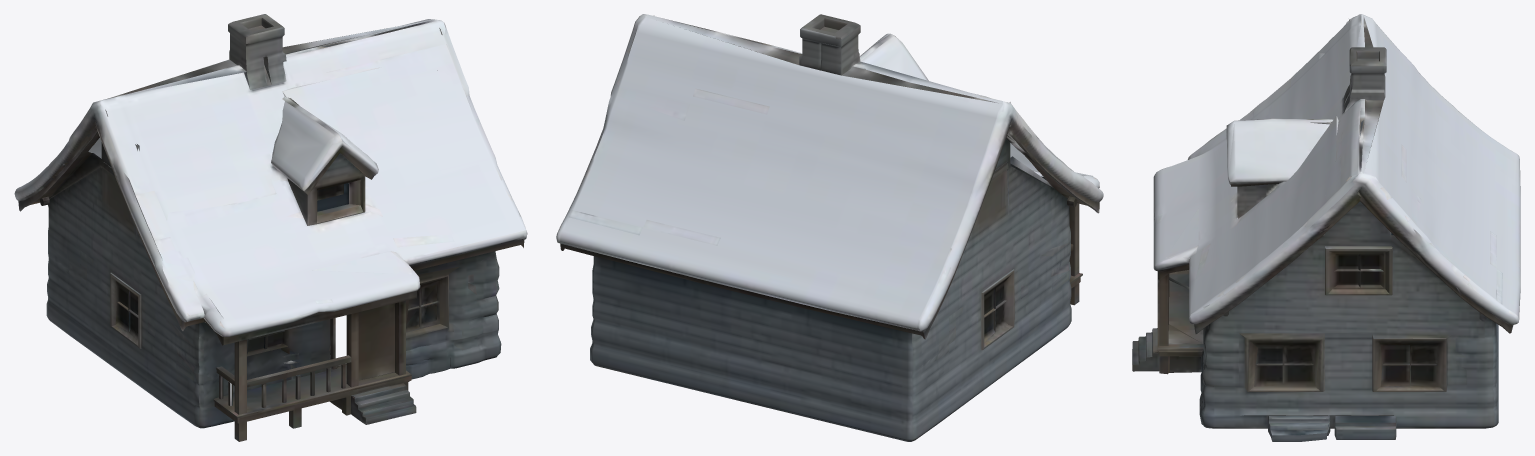
Rendered from ski-lodge.glb.
3 renders of one model, left to right at view 1: azimuth 30°, elevation 25°; view 2: azimuth 150°, elevation 25°; view 3: azimuth 270°, elevation 25°, orthographic. The views are drawn at different scales.
Visible parts, largest first — view 1: ski-lodge; view 2: ski-lodge; view 3: ski-lodge.
Part boxes in pixels (<box>): ski-lodge: <box>14,14,527,441</box>; ski-lodge: <box>556,14,1103,441</box>; ski-lodge: <box>1132,14,1520,441</box>.
Bounding box in the file's own units: 10.72 × 9 × 10.6.
Materials: 1 (1 with a texture image).
